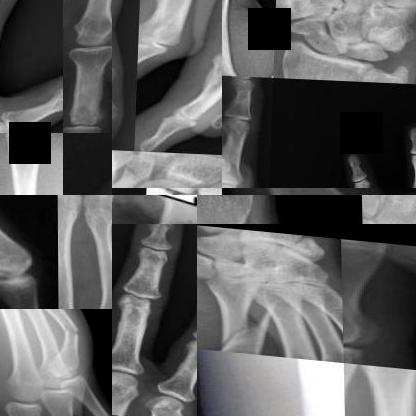fracture: (197, 296, 281, 354), (57, 315, 84, 345), (112, 161, 136, 188), (0, 114, 22, 133)
